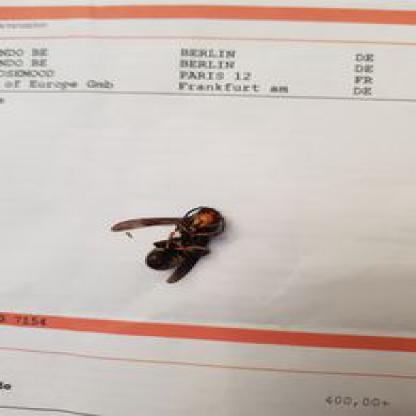Asian Hornet: (111, 204, 235, 286)
